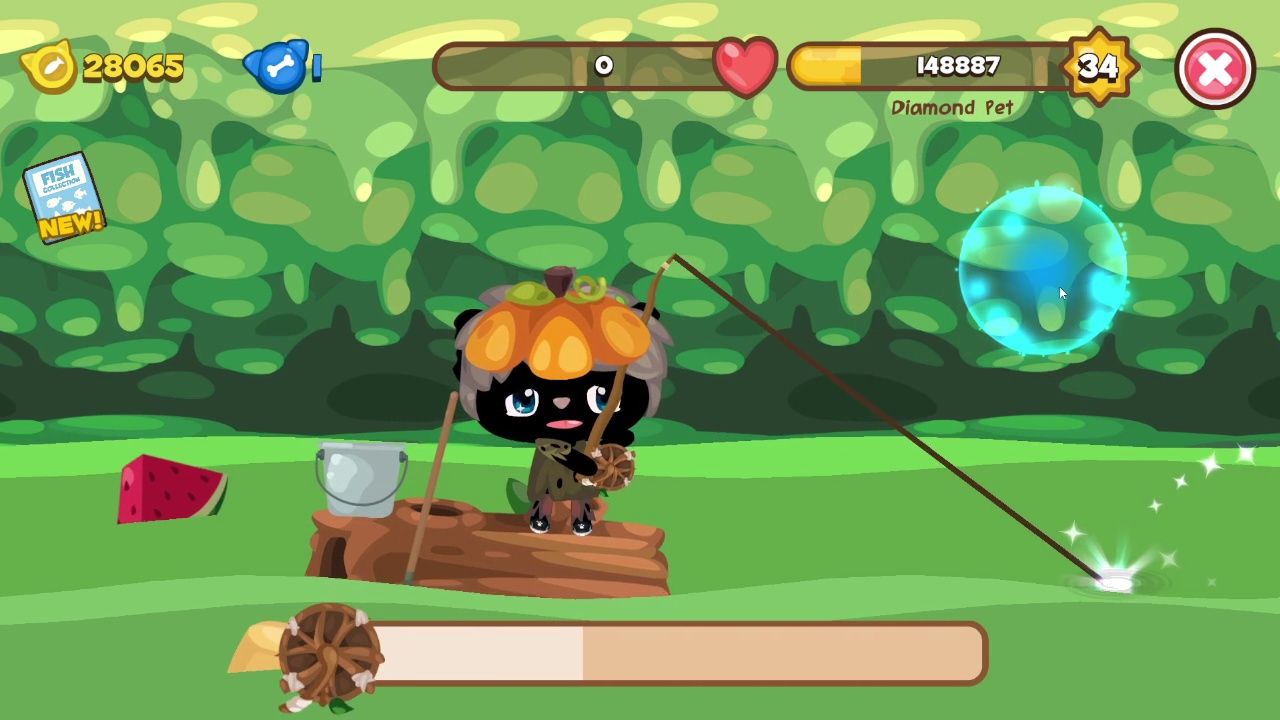point: (956, 184, 1130, 356)
